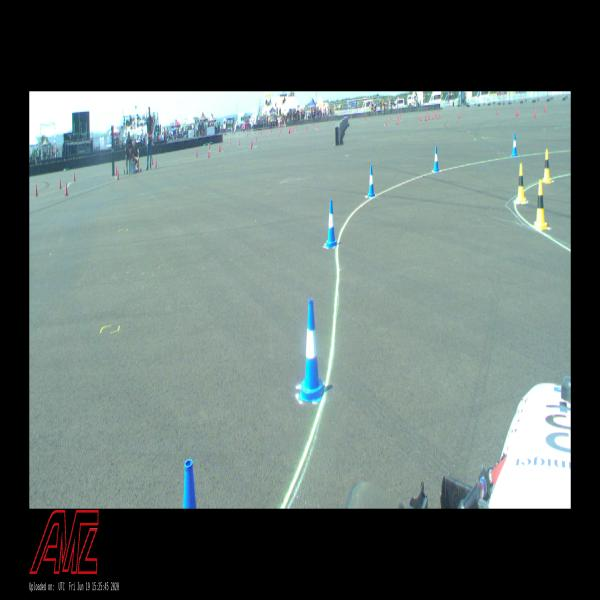blue_cone: (298, 300, 324, 401), (183, 460, 196, 508), (326, 201, 337, 247), (368, 166, 375, 196), (434, 146, 439, 172), (512, 134, 517, 156)
unknown_cone: (65, 183, 68, 195), (35, 184, 38, 195), (117, 168, 119, 180), (59, 178, 61, 189), (534, 108, 536, 118), (74, 172, 76, 181), (155, 158, 157, 167), (196, 150, 198, 158), (250, 141, 252, 149), (251, 139, 253, 146), (424, 114, 426, 121), (517, 108, 519, 115), (218, 145, 220, 151), (238, 140, 240, 146), (426, 114, 428, 120), (436, 113, 438, 118), (432, 114, 434, 119), (116, 165, 117, 175), (390, 115, 392, 120), (208, 149, 209, 158), (229, 140, 231, 144), (152, 157, 153, 165), (220, 145, 221, 152), (429, 113, 430, 120), (459, 112, 460, 119), (497, 108, 498, 115), (516, 109, 517, 116), (545, 105, 546, 112), (439, 113, 440, 119), (386, 119, 387, 125), (397, 119, 398, 125), (421, 114, 422, 120), (278, 132, 279, 137), (419, 115, 420, 120), (306, 128, 307, 132), (256, 136, 256, 142)
yellow_cone: (534, 182, 547, 227), (516, 165, 526, 202), (542, 150, 550, 183)
